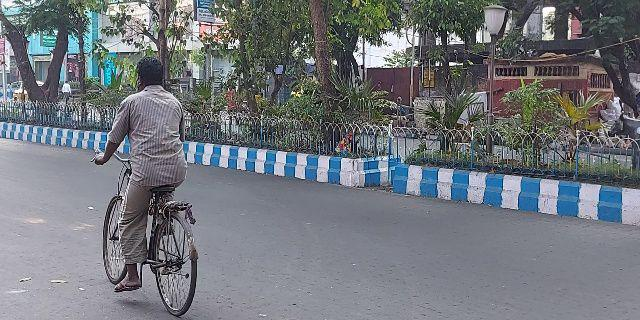Cycle: (90, 51, 214, 320)
